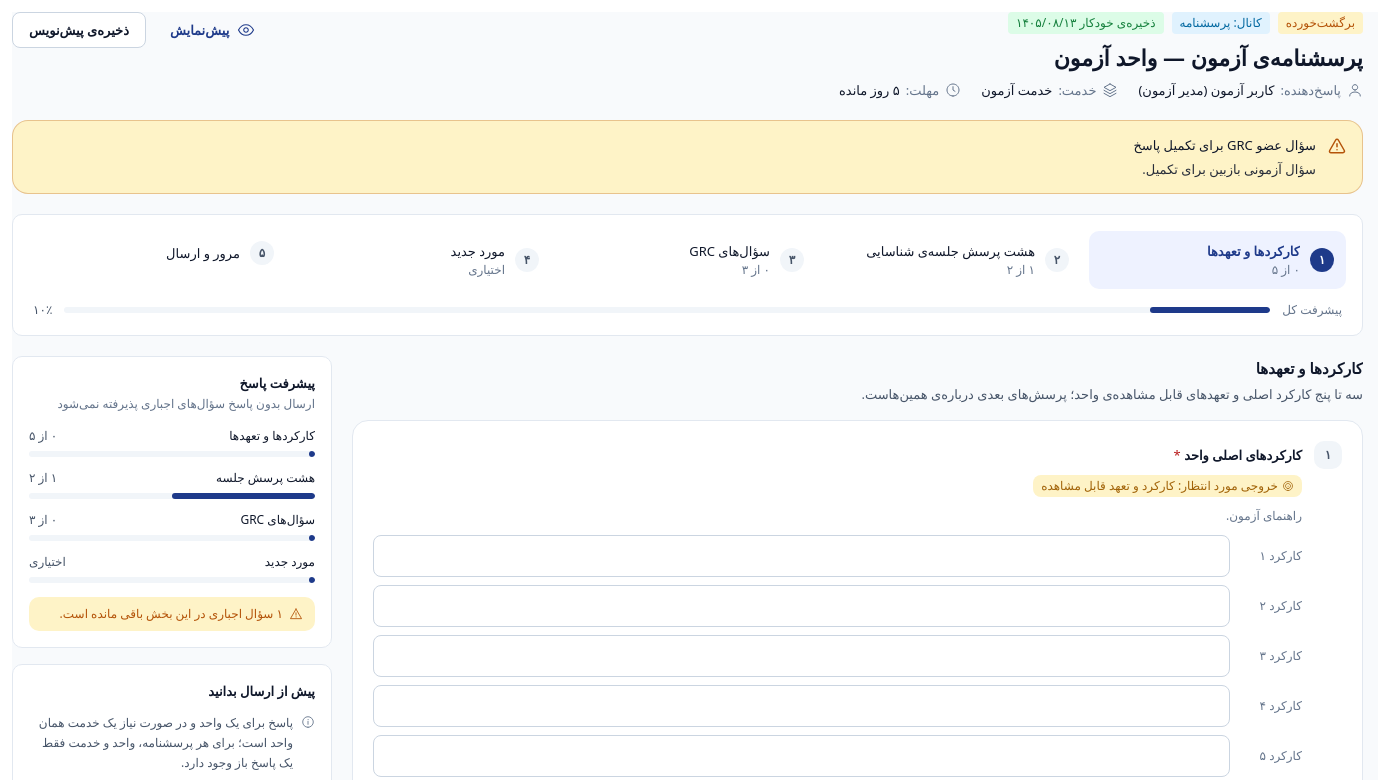
it: ResponseFormPage › saves a draft with the functions joined as lines
Type "انتقال وجه" into the field named "کارکرد ۱".
click(802, 556); type("انتقال وجه")  # box [373, 535, 1230, 577]
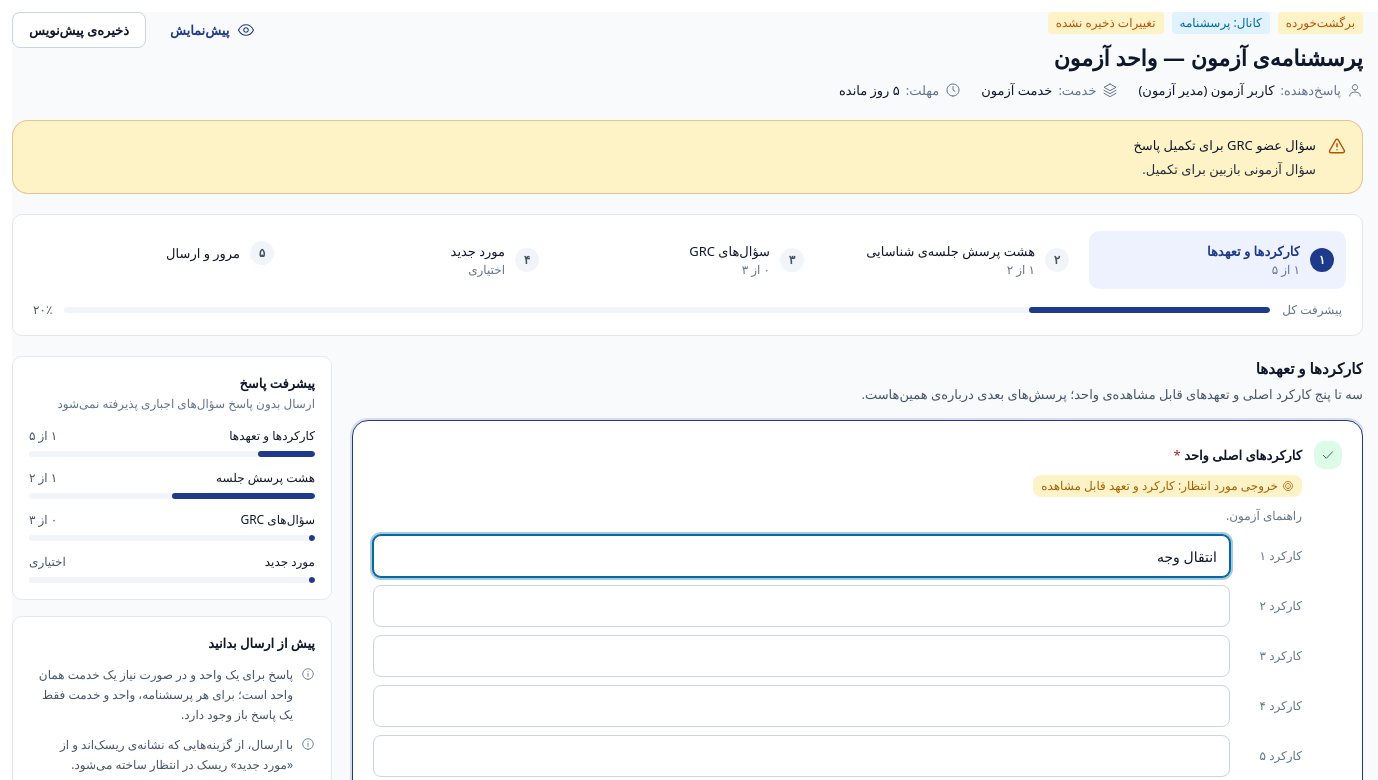
Type "تسویه" into the field named "کارکرد ۲".
click(802, 606); type("تسویه")  # box [373, 585, 1230, 627]
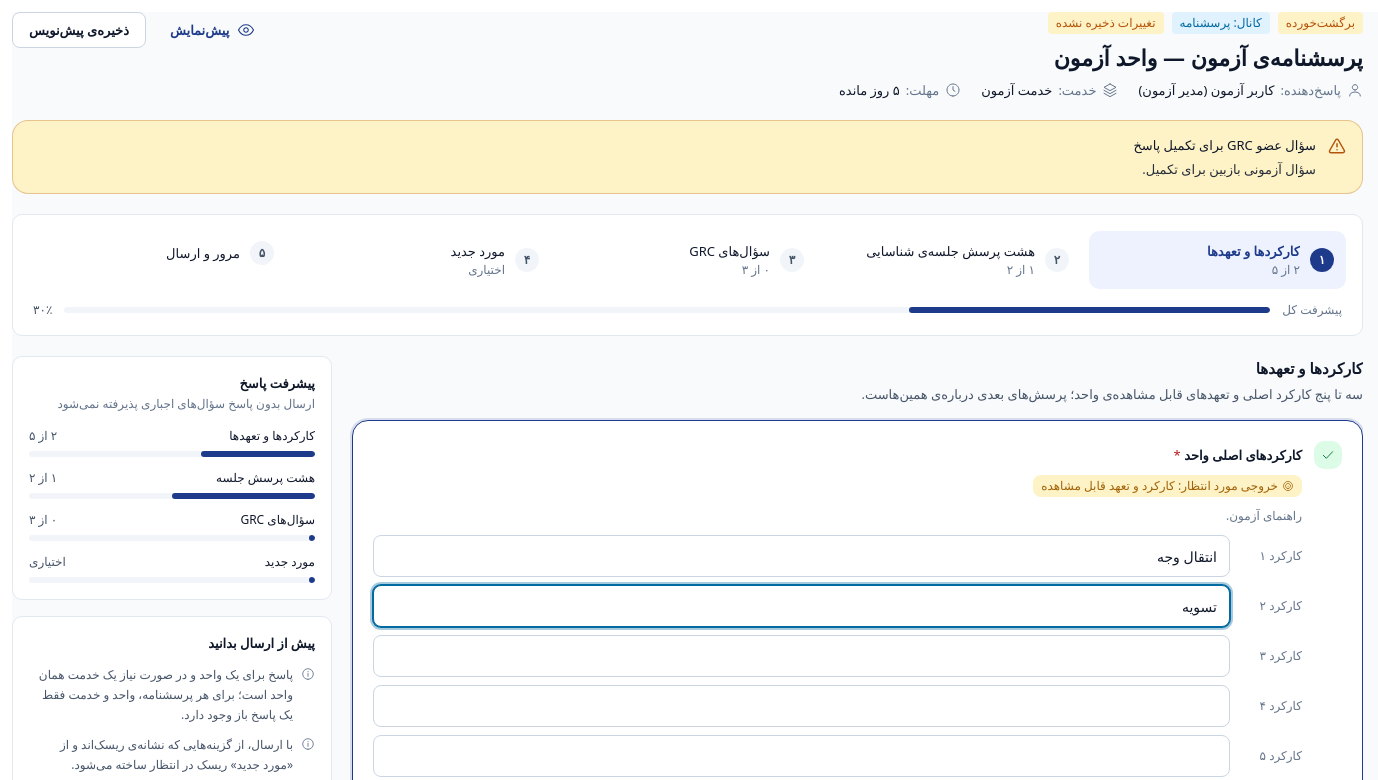
Result: the text "تغییرات ذخیره نشده" is shown at [1048, 12, 1164, 34]
Click the button "ذخیره‌ی پیش‌نویس".
click(79, 30)  # box [12, 12, 146, 48]
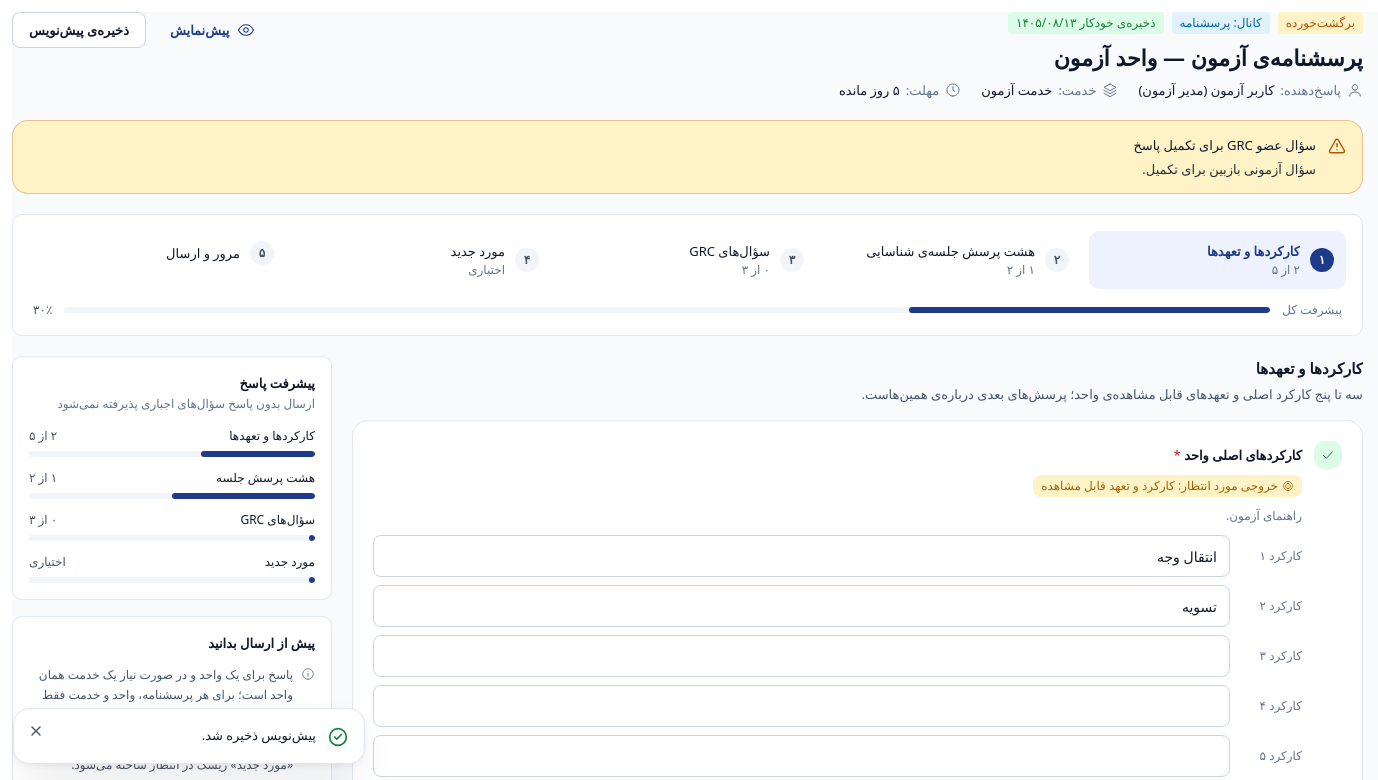
Result: the text "پیش‌نویس ذخیره شد." is shown at [202, 725, 316, 745]
Result: the text "ذخیره‌ی خودکار ۱۴۰۵/۰۸/۱۳" is shown at [1008, 12, 1164, 34]
